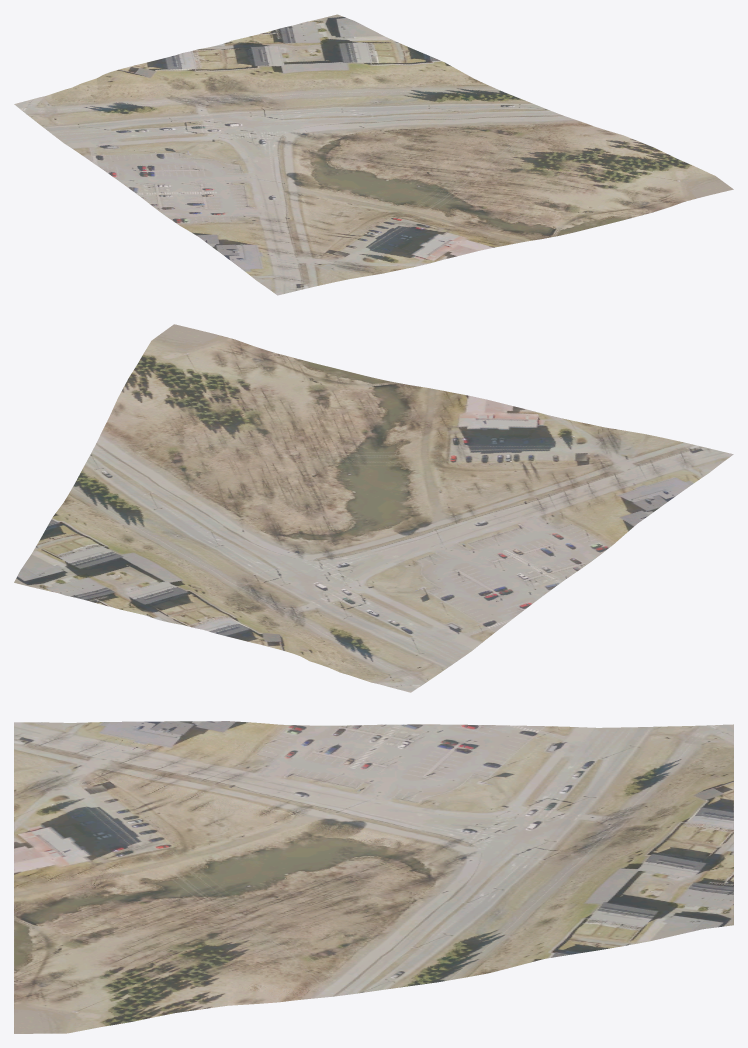
The model's file is CM_Terrain_24491687_6820204.fbx.
The picture shows the model from 3 angles, top to bottom: view 1: azimuth 30°, elevation 25°; view 2: azimuth 150°, elevation 25°; view 3: azimuth 270°, elevation 25°; orthographic projection. The views are drawn at different scales.
Parts seen in each view (by area): view 1: CM_Terrain_24491687_6820204_LOD0; view 2: CM_Terrain_24491687_6820204_LOD0; view 3: CM_Terrain_24491687_6820204_LOD0.
Boxes of the visible parts, x1,y1,x2,y2 form: CM_Terrain_24491687_6820204_LOD0: (14,14,733,295); CM_Terrain_24491687_6820204_LOD0: (14,324,733,692); CM_Terrain_24491687_6820204_LOD0: (14,721,733,1033).
Size of what is drawn, in the model's own units: 205 by 8.14 by 205.
